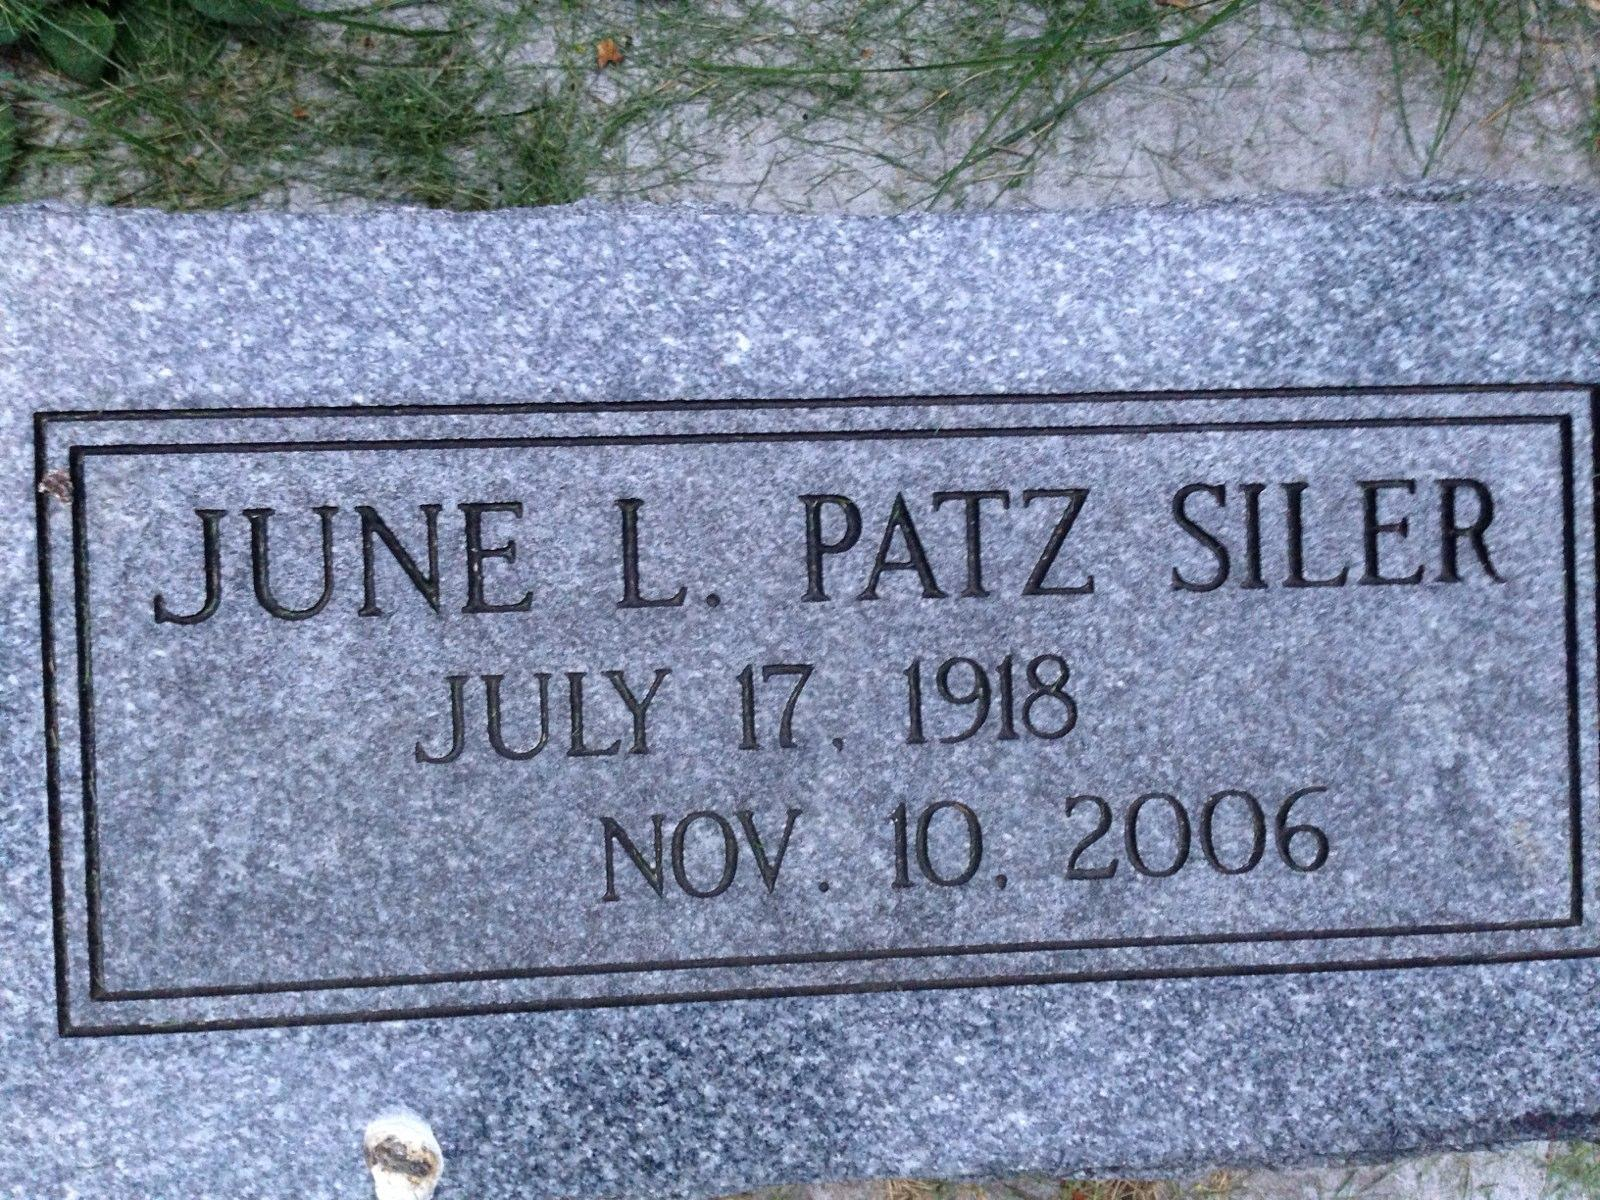flat: (13, 140, 1589, 1165)
